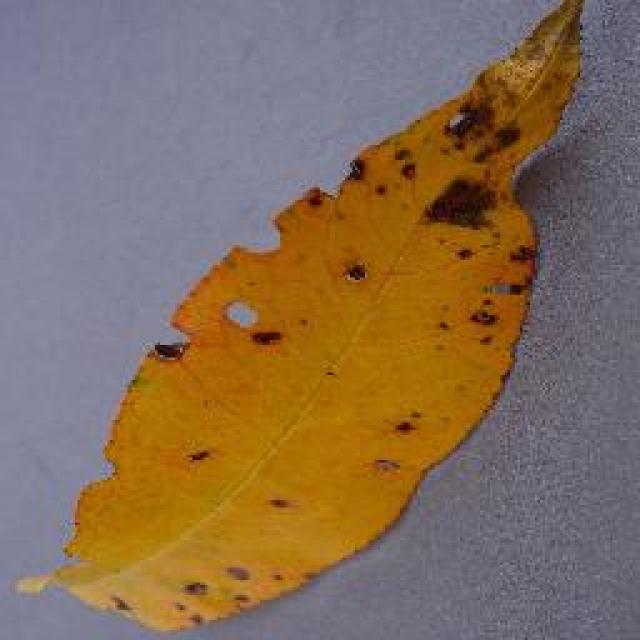Peach_Bacterial_Spot: (310, 47, 540, 328)
